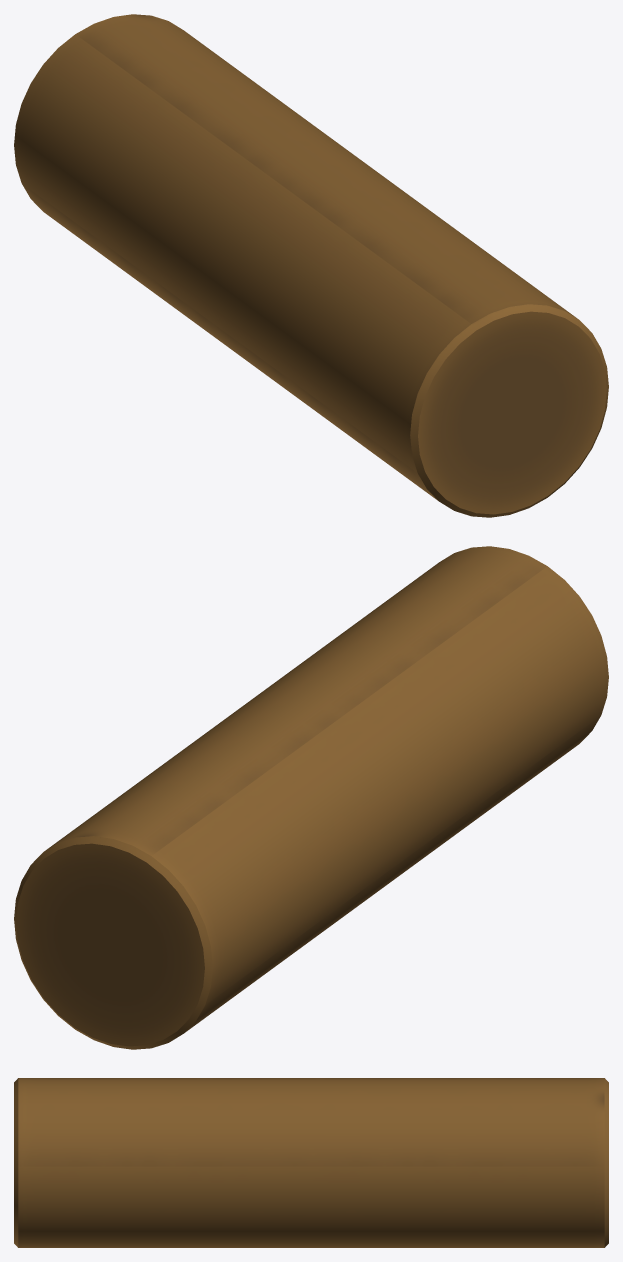
The model's file is pinbase_textured.glb.
3 renders of one model, top to bottom at view 1: azimuth 30°, elevation 25°; view 2: azimuth 150°, elevation 25°; view 3: azimuth 270°, elevation 25°, orthographic. The views are drawn at different scales.
Parts seen in each view (by area): view 1: Pinbase; view 2: Pinbase; view 3: Pinbase.
Boxes of the visible parts, box(x1,y1,x2,y2) form: Pinbase: box(14, 14, 608, 517); Pinbase: box(14, 546, 608, 1049); Pinbase: box(14, 1078, 608, 1247).
Size of the model in its own units: 0.1 by 0.1 by 0.35.
1 material, 1 textured.
